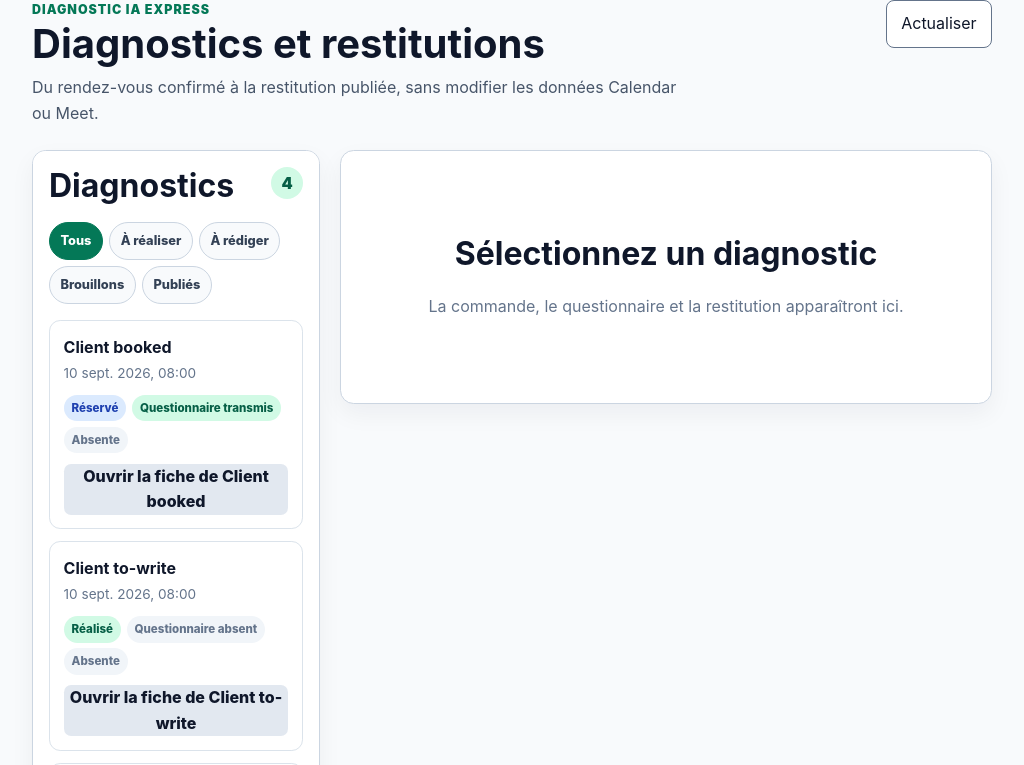
Test case: administration des Diagnostics IA et restitutions › crée un brouillon avec expected_revision 0 et affiche la révision reçue
Click the button "Ouvrir la fiche de Client to-write". click: (176, 711)
box: [64, 685, 288, 736]
(page scrolled)
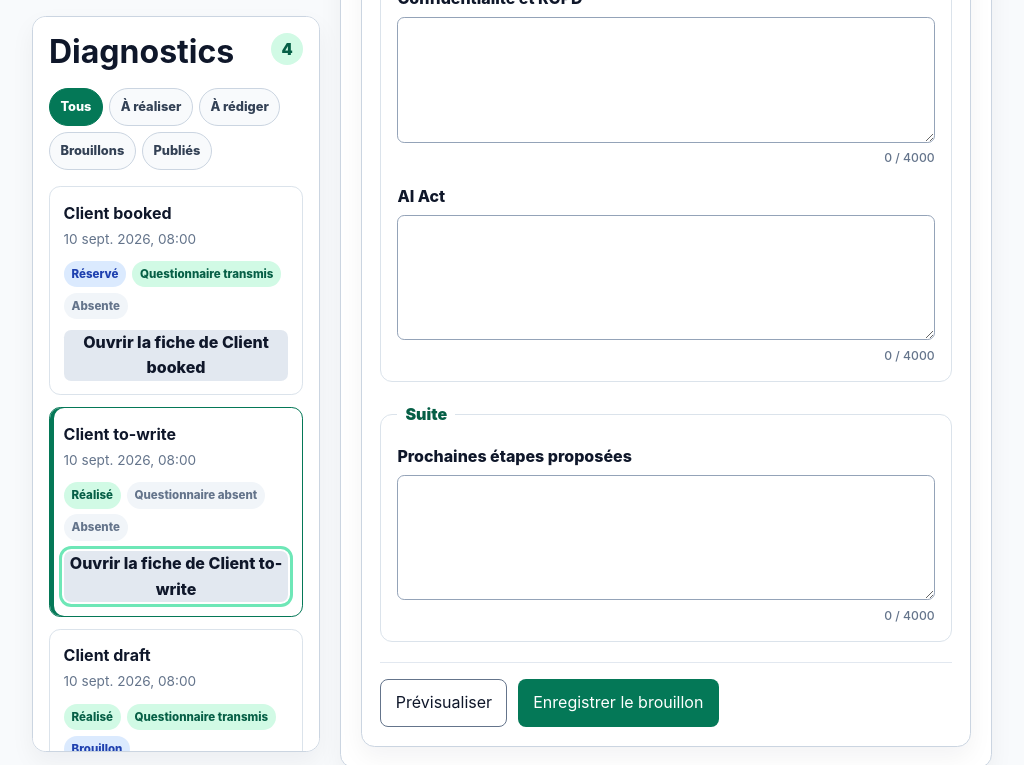
Click the button "Enregistrer le brouillon". click: (618, 703)
box: [518, 679, 719, 727]
(page scrolled)
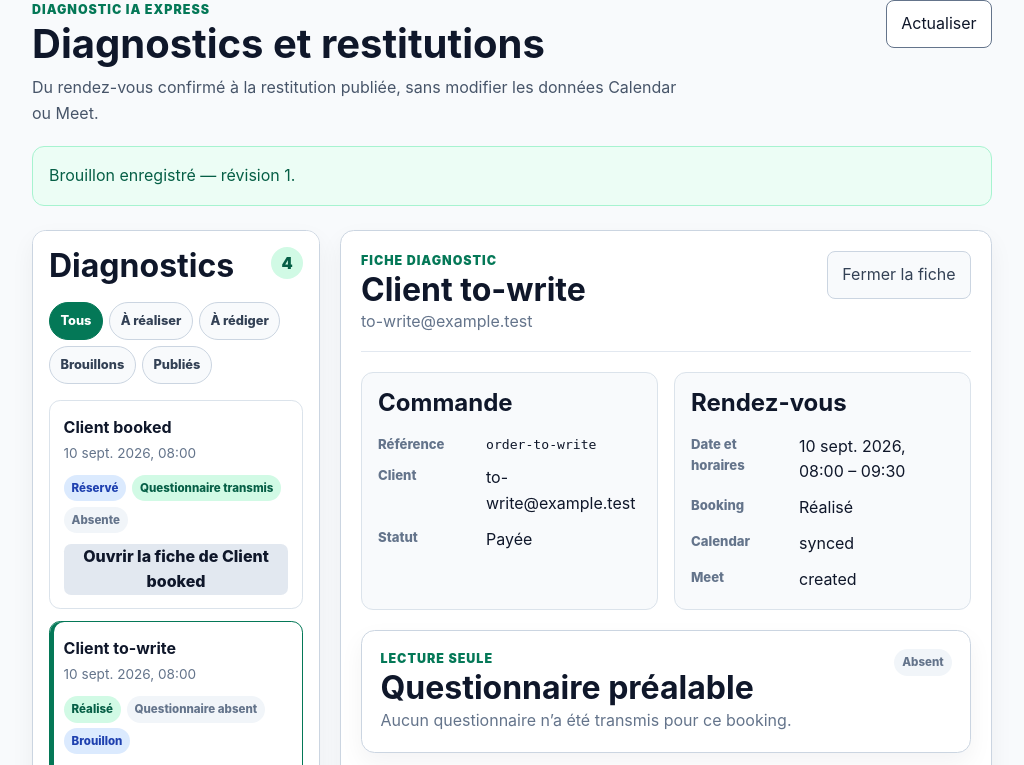
Expected: the message shows "révision 1", [49, 165, 295, 185]
